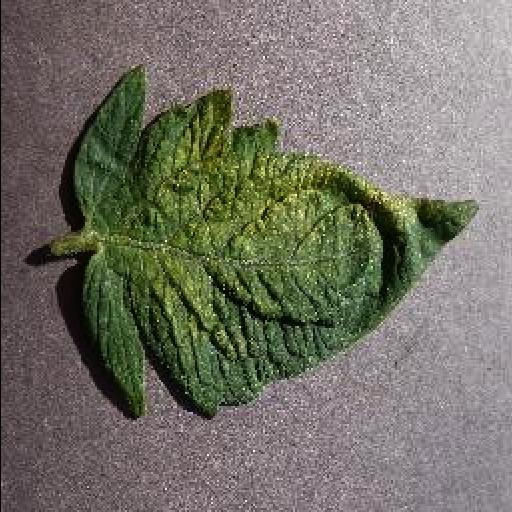disease_tomato: (74, 62, 482, 418)
